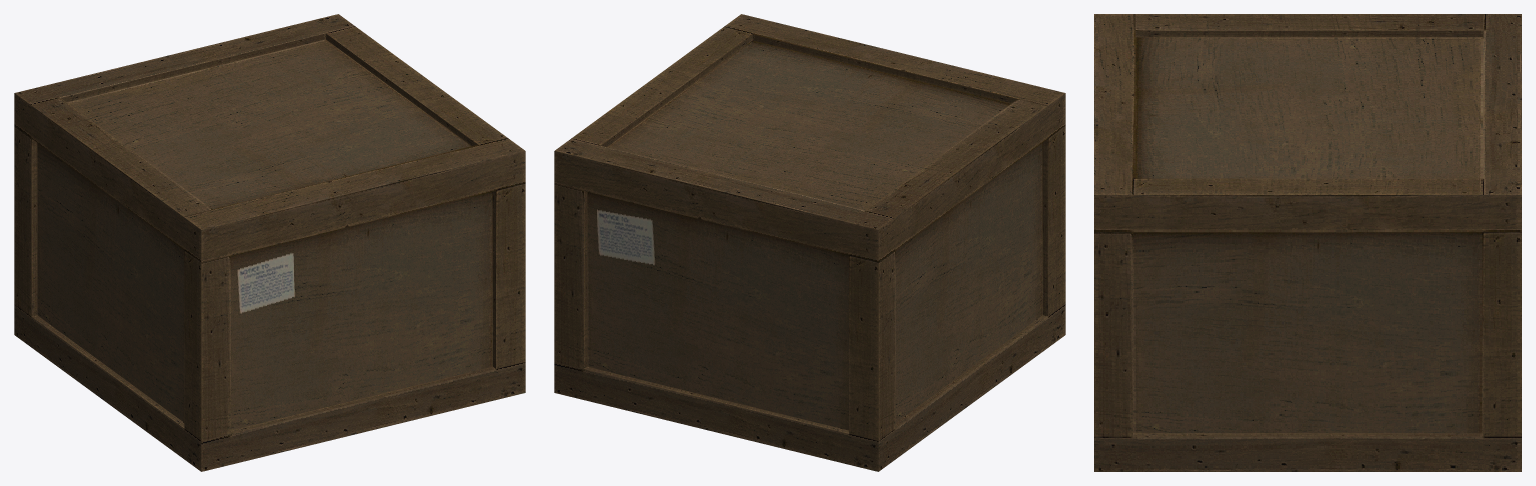
Rendered from wooden_crate_hx_6_1.glb.
The picture shows the model from 3 angles, left to right: view 1: azimuth 30°, elevation 25°; view 2: azimuth 150°, elevation 25°; view 3: azimuth 270°, elevation 25°; orthographic projection. The views are drawn at different scales.
Parts seen in each view (by area): view 1: wooden_crate_hx_6_1; view 2: wooden_crate_hx_6_1; view 3: wooden_crate_hx_6_1.
Part boxes in pixels (bbox=[...]): wooden_crate_hx_6_1: bbox=[14, 14, 525, 471]; wooden_crate_hx_6_1: bbox=[554, 14, 1065, 471]; wooden_crate_hx_6_1: bbox=[1094, 14, 1521, 471].
Size of the model in its own units: 1.4 by 1 by 1.4.
1 material, 1 textured.
